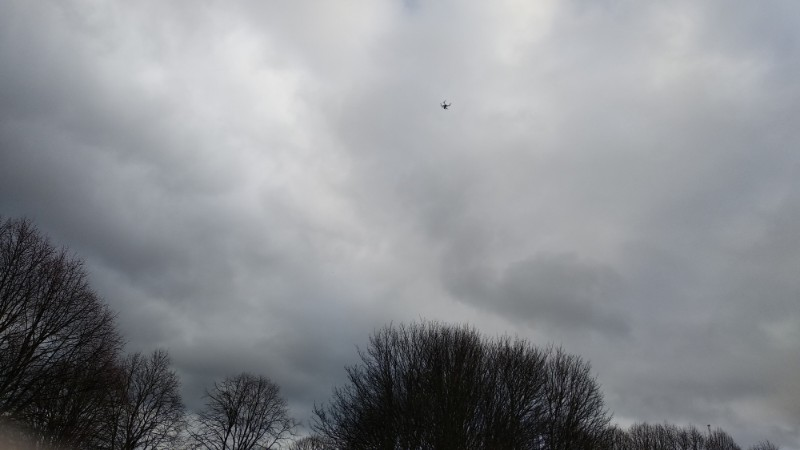drone: (439, 100, 451, 111)
